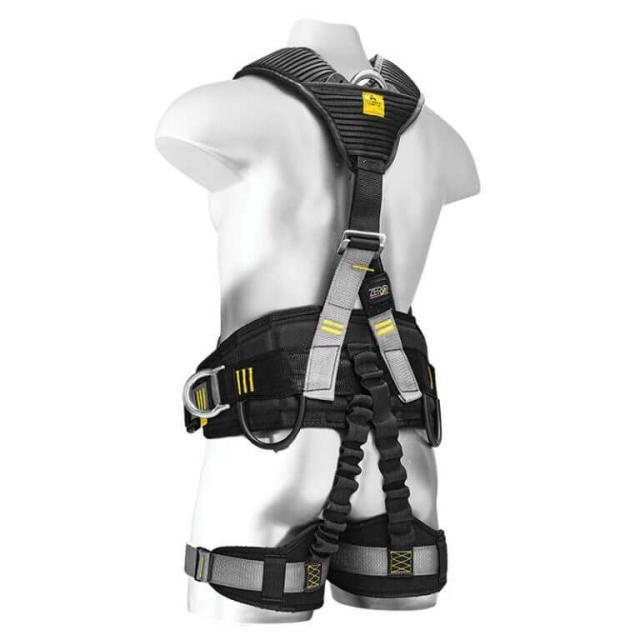Arnes_seguridad: (181, 51, 452, 611)
